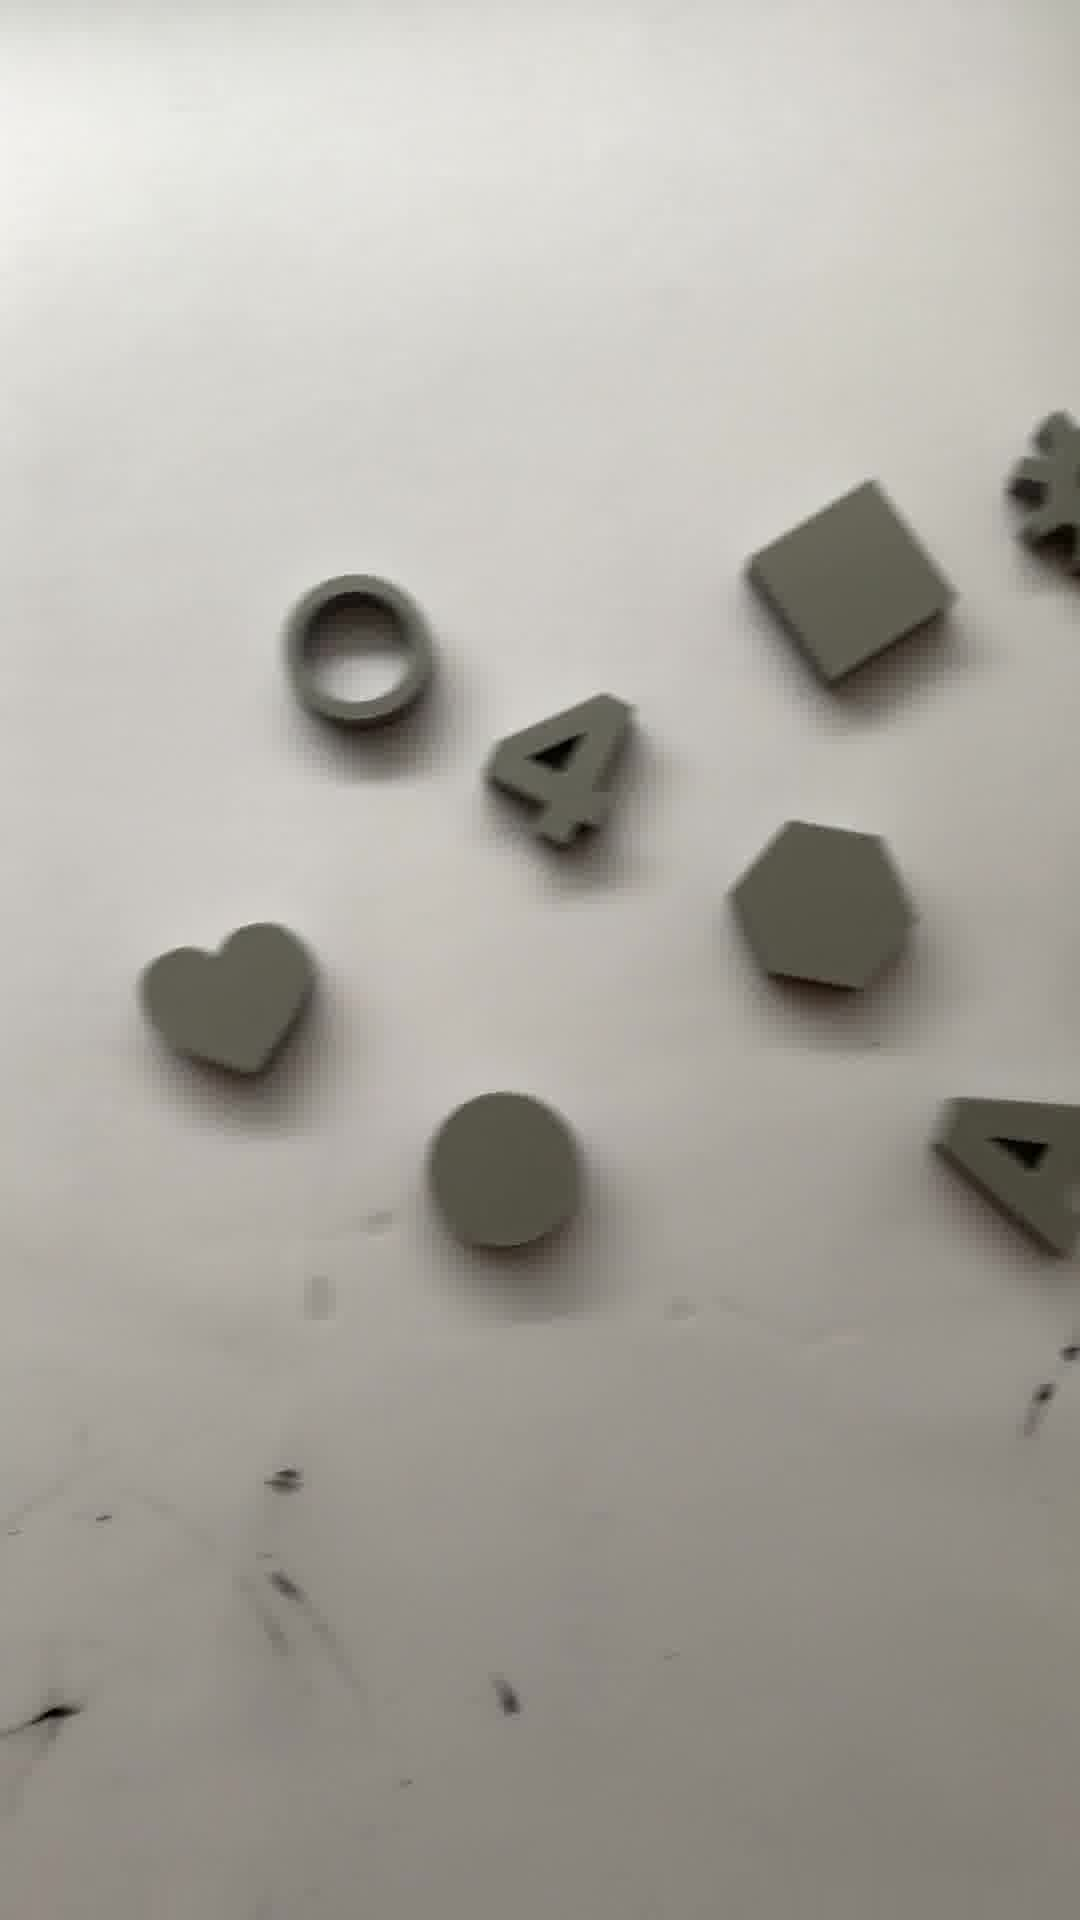Gray A-letter: (935, 1087, 1080, 1265)
Gray circle: (413, 1083, 593, 1261)
Gray four: (480, 687, 651, 865)
Gray gear: (1002, 406, 1080, 583)
Gray heart: (145, 905, 327, 1091)
Gray hexagon: (733, 814, 919, 992)
Gray ring: (282, 578, 435, 735)
Gray square: (753, 477, 953, 695)
